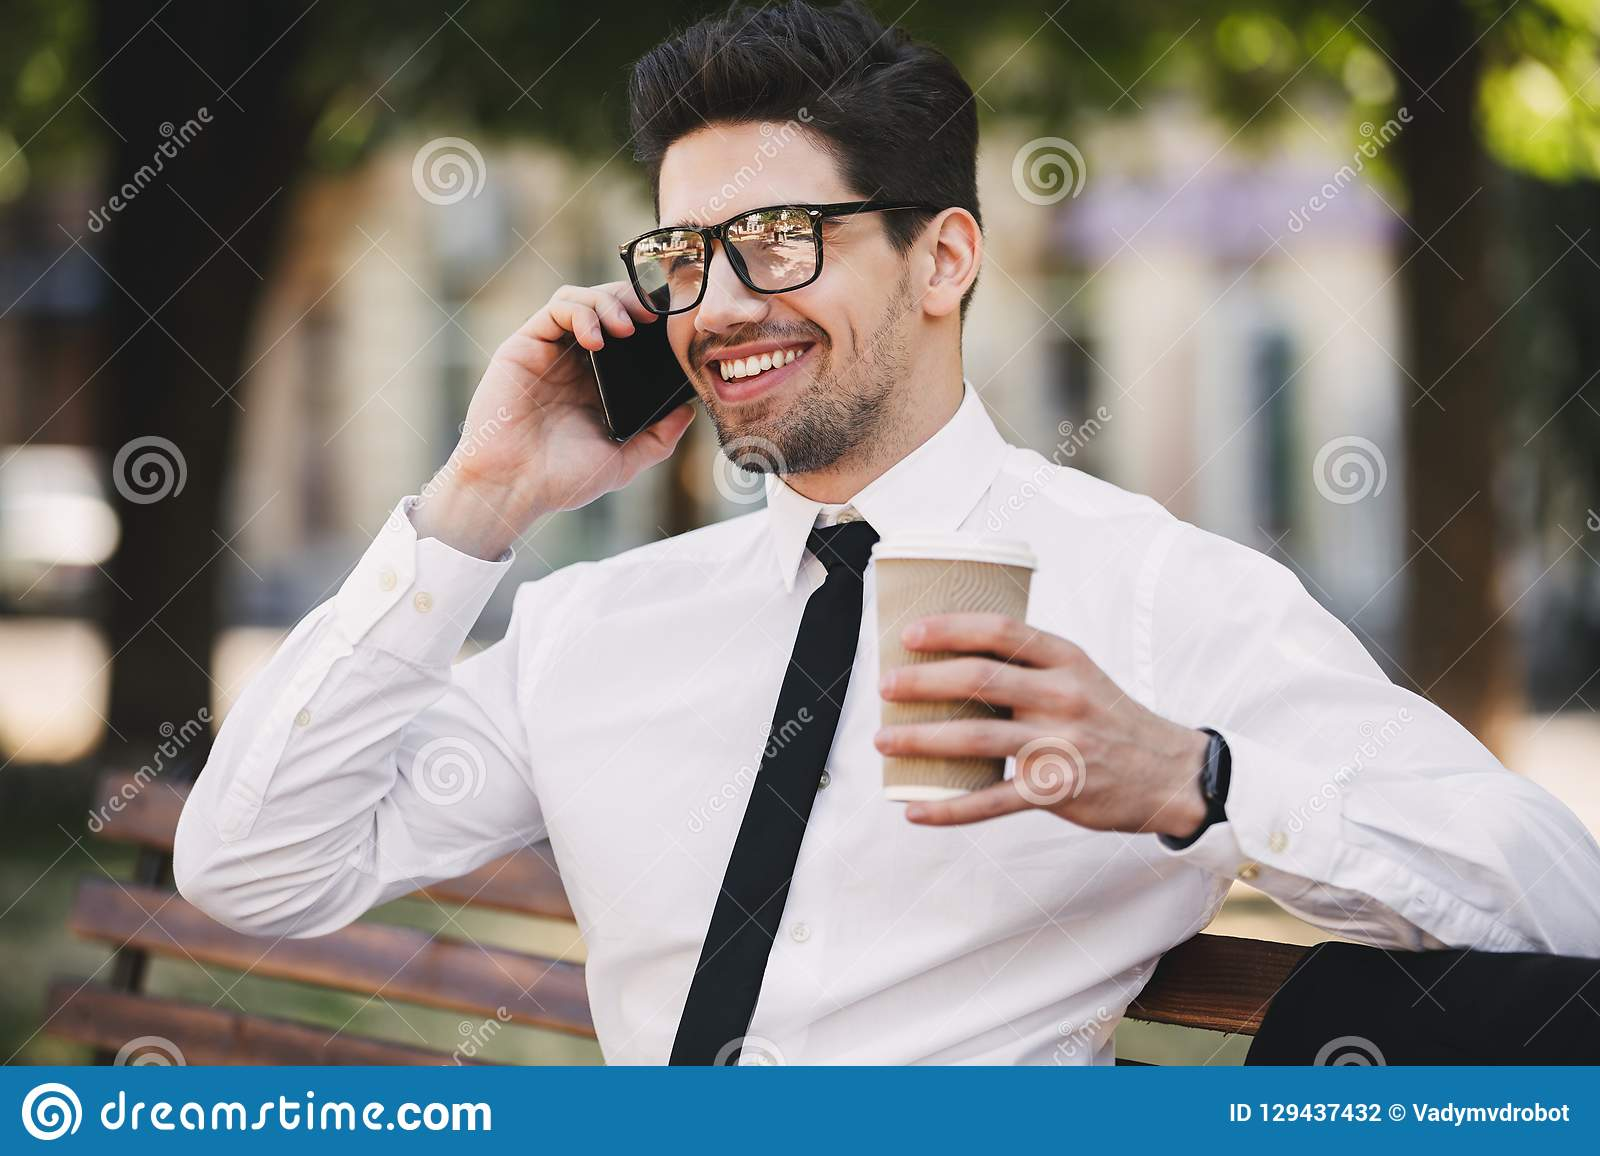phone: (585, 287, 697, 443)
talk: (475, 196, 865, 508)
